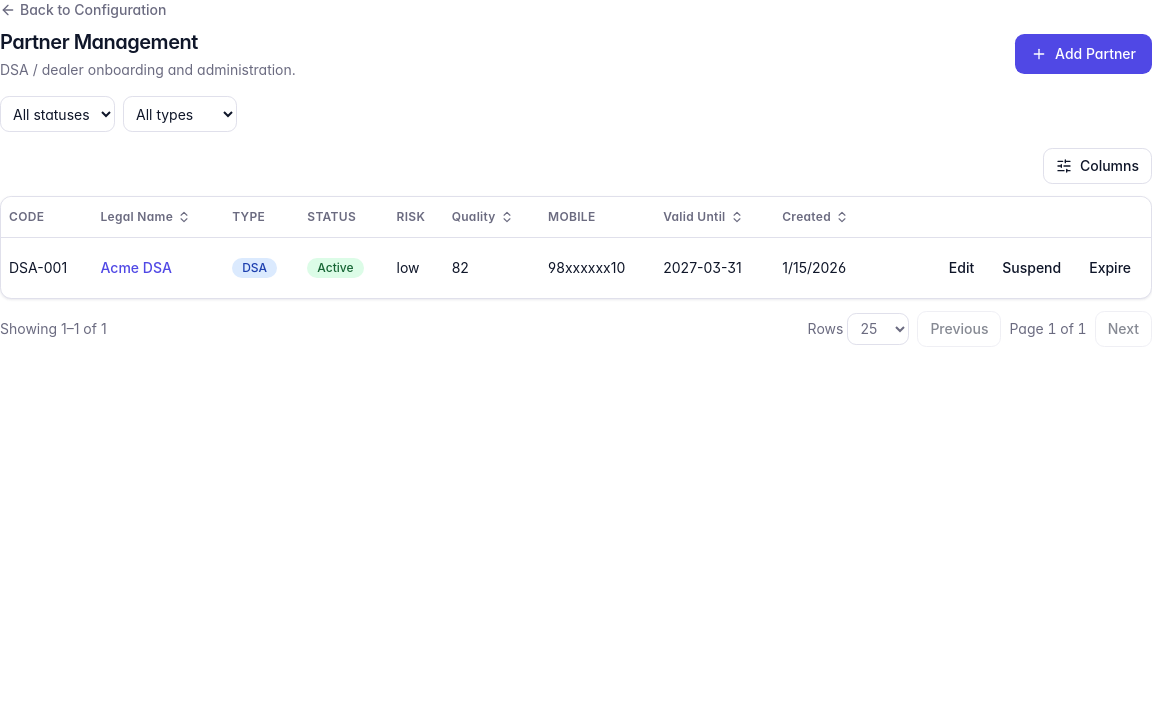
PartnerManagementPage › surfaces an invalid-transition VALIDATION_ERROR inline and keeps the dialog open
The width and height of the screenshot is (1152, 720).
Click the button "Suspend". click: (1032, 268)
box: [990, 250, 1073, 286]
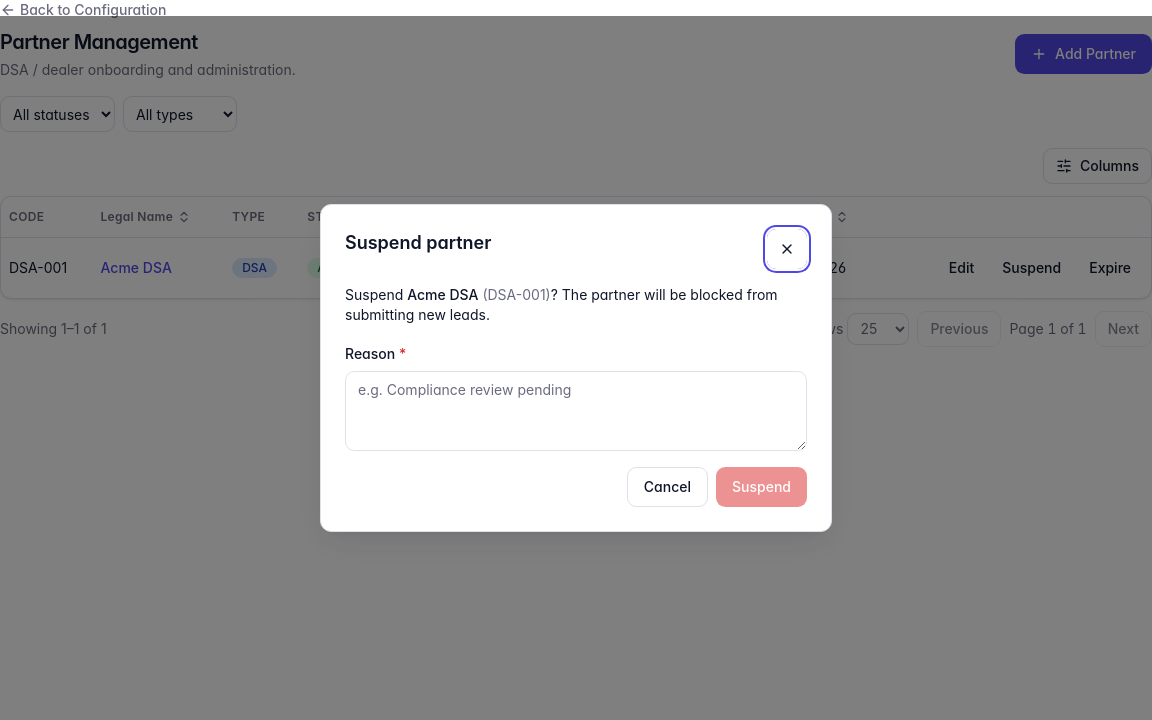
Type "x" into the text box labelled "Reason *". click: (576, 411)
box: [345, 371, 807, 451]
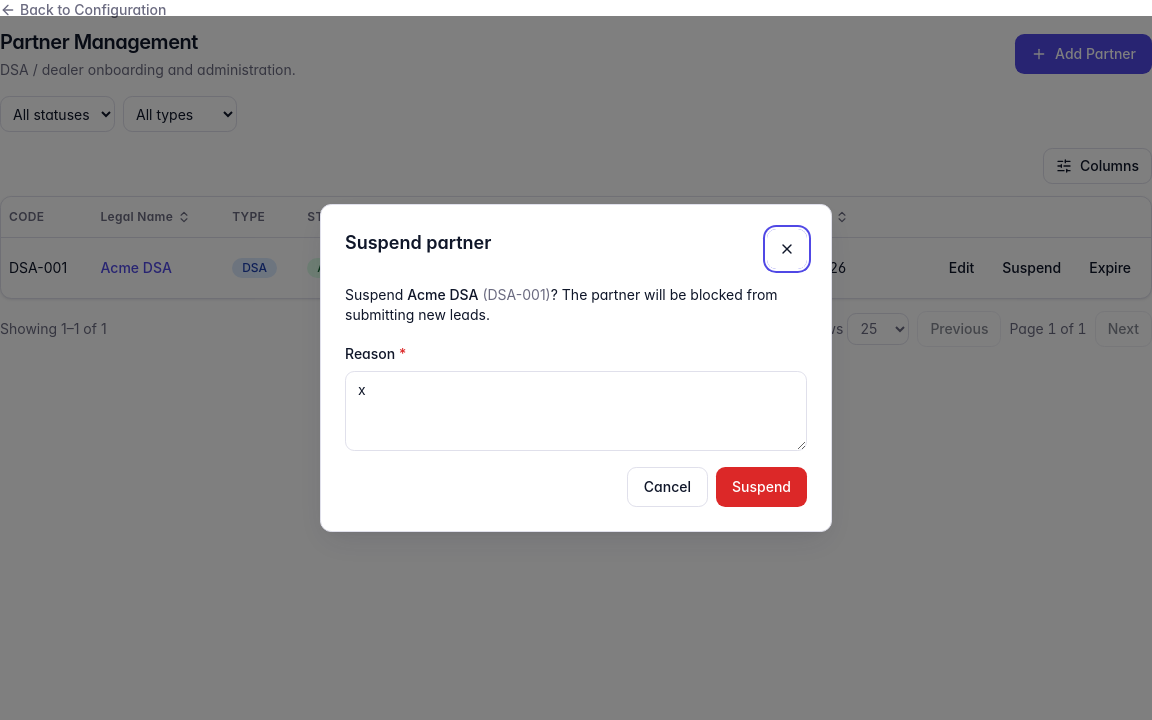
Click the button "Suspend". click: (762, 487)
box: [716, 467, 807, 507]
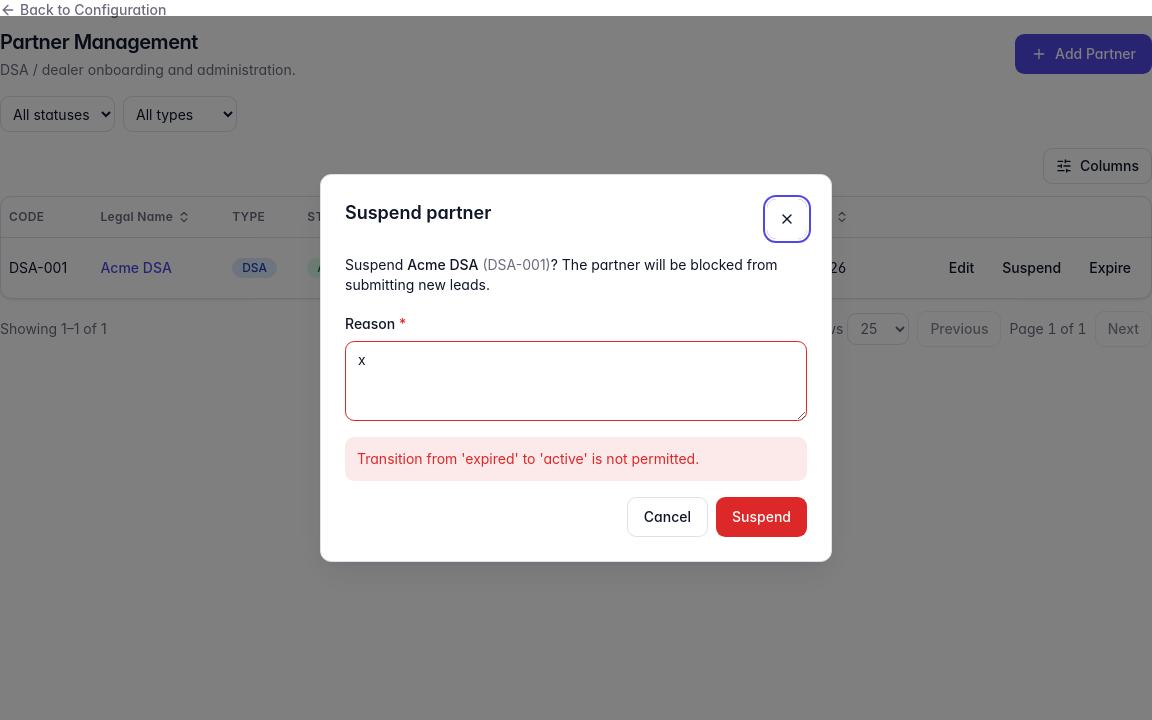
Now the dialog is shown, box [320, 174, 832, 562]
Now the text "Transition from 'expired' to 'active' is not permitted." is shown, box [345, 437, 807, 481]
